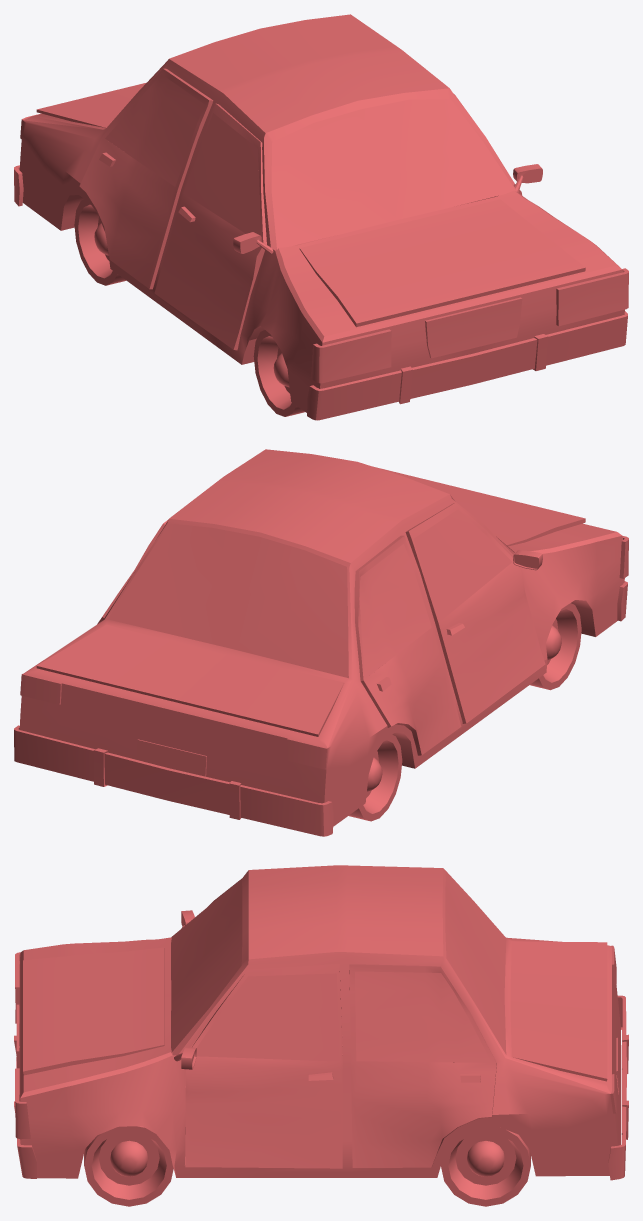
File: BoxCar.fbx
3 views of the same model, one above another, from view 1: azimuth 30°, elevation 25°; view 2: azimuth 150°, elevation 25°; view 3: azimuth 270°, elevation 25° (orthographic).
Visible parts, largest first — view 1: SM_Car, SM_CarWheels, SM_CarWheels.001; view 2: SM_Car, SM_CarWheels, SM_CarWheels.001; view 3: SM_Car, SM_CarWheels, SM_CarWheels.001.
Part boxes in pixels (x1,y1,x2,y2): SM_Car: (14, 14, 628, 420); SM_CarWheels: (253, 330, 304, 416); SM_CarWheels.001: (74, 199, 126, 285); SM_Car: (14, 449, 628, 836); SM_CarWheels: (530, 603, 581, 690); SM_CarWheels.001: (348, 734, 402, 821); SM_Car: (14, 865, 628, 1180); SM_CarWheels: (84, 1126, 173, 1206); SM_CarWheels.001: (441, 1127, 530, 1206).
Bounding box in the file's own units: 244 × 178 × 417.
